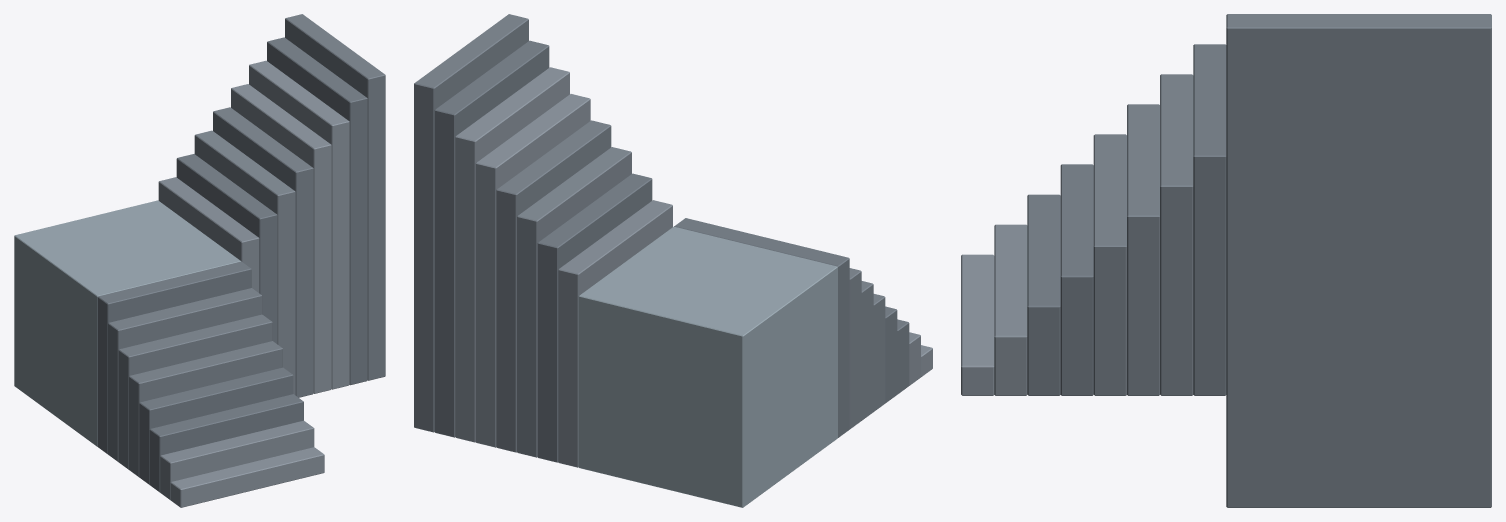
Rendered from MOD_14_Stairs_Corner.glb.
3 renders of one model, left to right at view 1: azimuth 30°, elevation 25°; view 2: azimuth 150°, elevation 25°; view 3: azimuth 270°, elevation 25°, orthographic. The views are drawn at different scales.
Parts seen in each view (by area): view 1: MOD_14_Stairs_Corner; view 2: MOD_14_Stairs_Corner; view 3: MOD_14_Stairs_Corner.
Part boxes in pixels (left/top/right/bottom): MOD_14_Stairs_Corner: left=14, top=14, right=385, bottom=507; MOD_14_Stairs_Corner: left=414, top=14, right=932, bottom=507; MOD_14_Stairs_Corner: left=961, top=14, right=1491, bottom=507.
Bounding box in the file's own units: 4 × 4 × 4.
